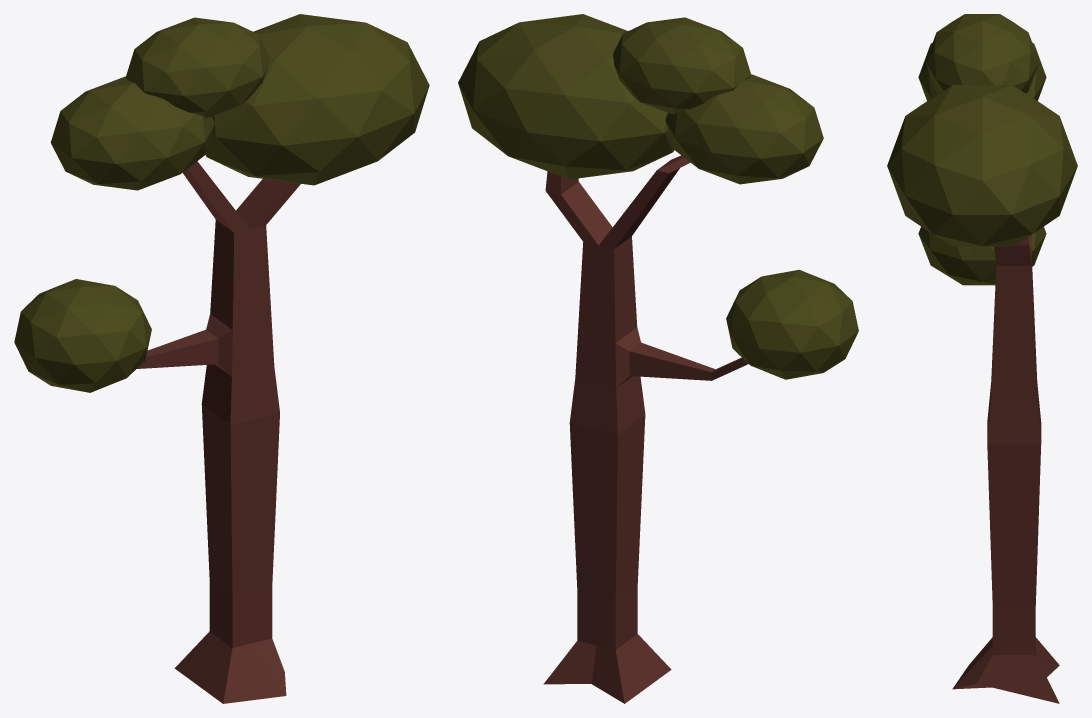
Rendered from arvorenova2.fbx.
The picture shows the model from 3 angles, left to right: view 1: azimuth 30°, elevation 25°; view 2: azimuth 150°, elevation 25°; view 3: azimuth 270°, elevation 25°; orthographic projection. The views are drawn at different scales.
Parts seen in each view (by area): view 1: Icosphere.003; view 2: Icosphere.003; view 3: Icosphere.003.
Part boxes in pixels (x1,y1,x2,y2): Icosphere.003: (14, 14, 429, 703); Icosphere.003: (458, 14, 858, 703); Icosphere.003: (887, 14, 1077, 703).
Bounding box in the file's own units: 516 × 859 × 233.
